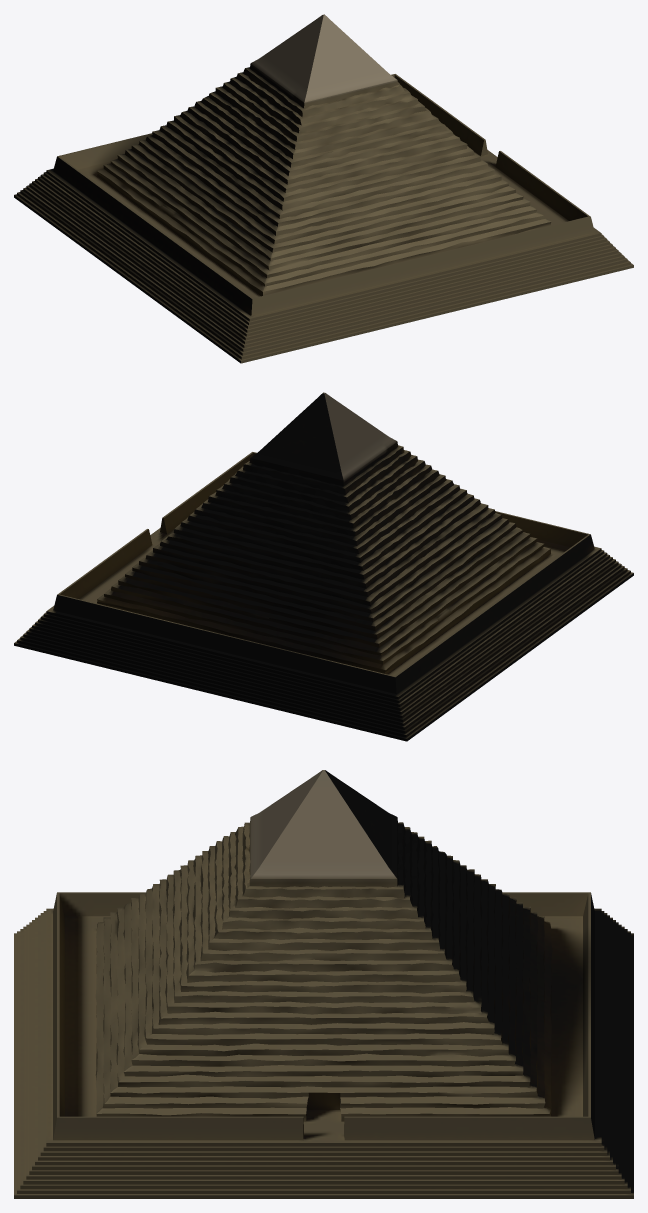
The model's file is pyramid_free.glb.
The picture shows the model from 3 angles, top to bottom: view 1: azimuth 30°, elevation 25°; view 2: azimuth 150°, elevation 25°; view 3: azimuth 270°, elevation 25°; orthographic projection. The views are drawn at different scales.
Visible parts, largest first — view 1: Plane.001; view 2: Plane.001; view 3: Plane.001.
Part boxes in pixels (bbox=[...]): Plane.001: bbox=[14, 14, 633, 363]; Plane.001: bbox=[14, 392, 633, 741]; Plane.001: bbox=[14, 770, 633, 1198].
Bounding box in the file's own units: 191 × 101 × 191.
1 material, 1 textured.
